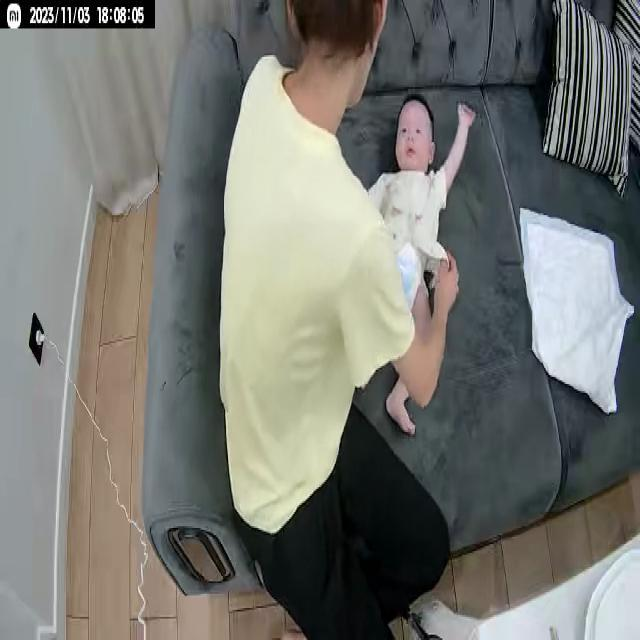baby: (347, 93, 477, 434)
